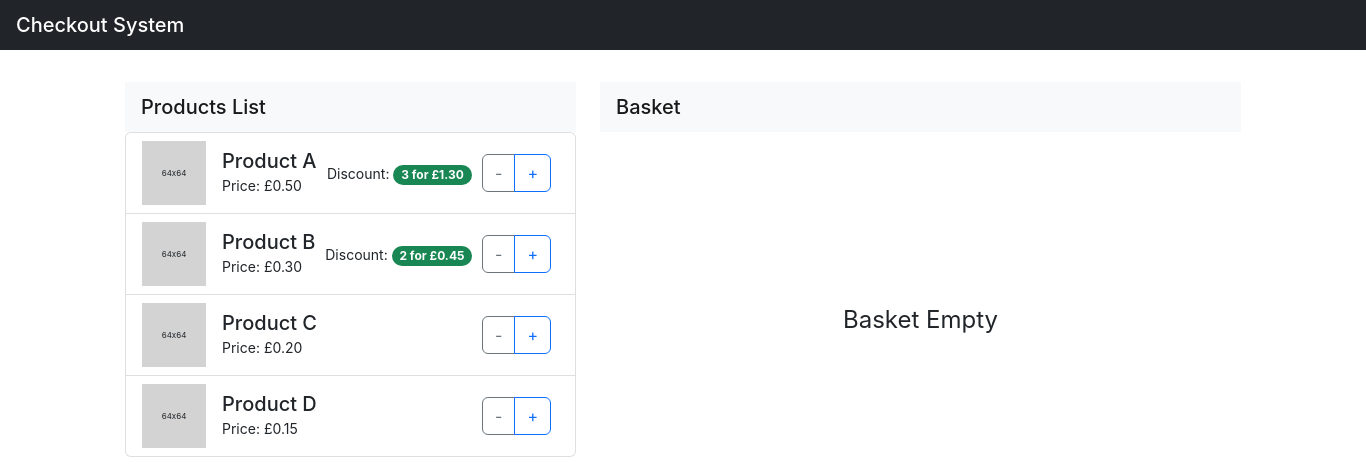
Add and Remove Product to Basket
Click the button with class "btn-outline-primary" in the row of "£0.30": [533, 254] box 514,235 -> 551,273
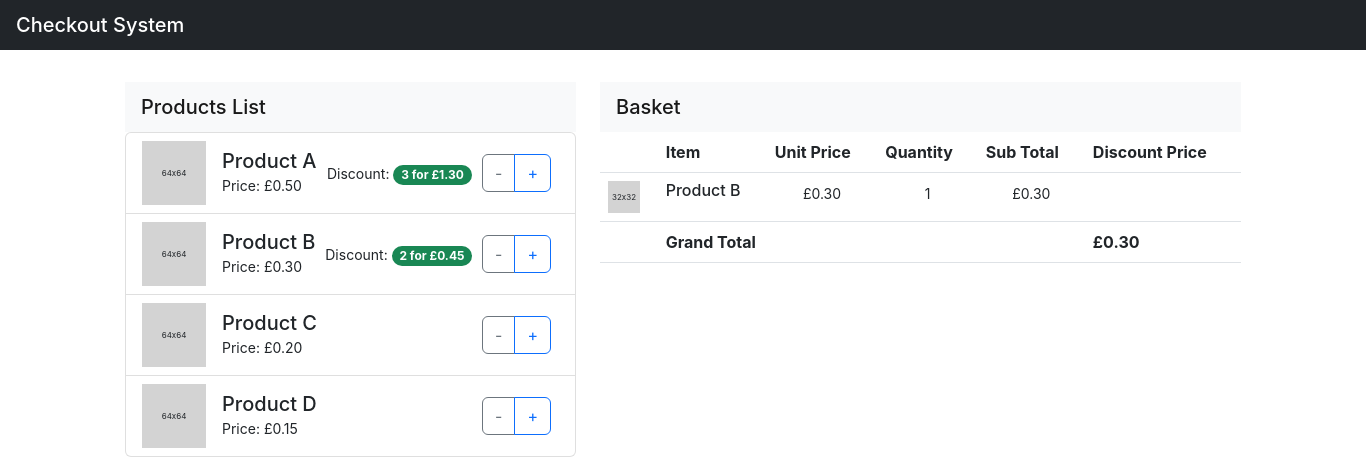
Click the button with class "btn-outline-secondary" next to "£0.45": [499, 254] box 482,235 -> 515,273
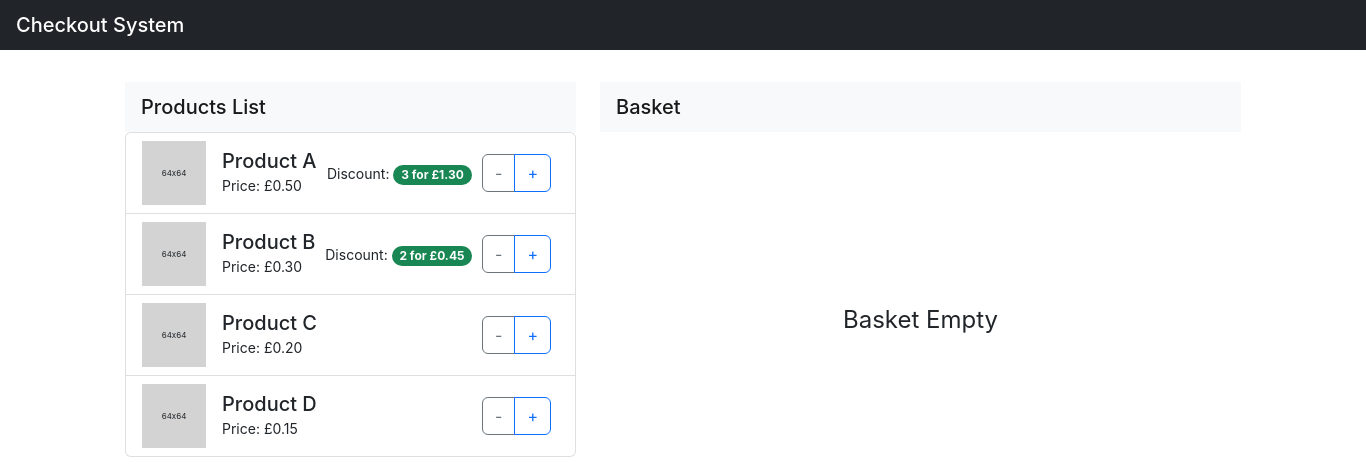
expect no rows are shown: met
